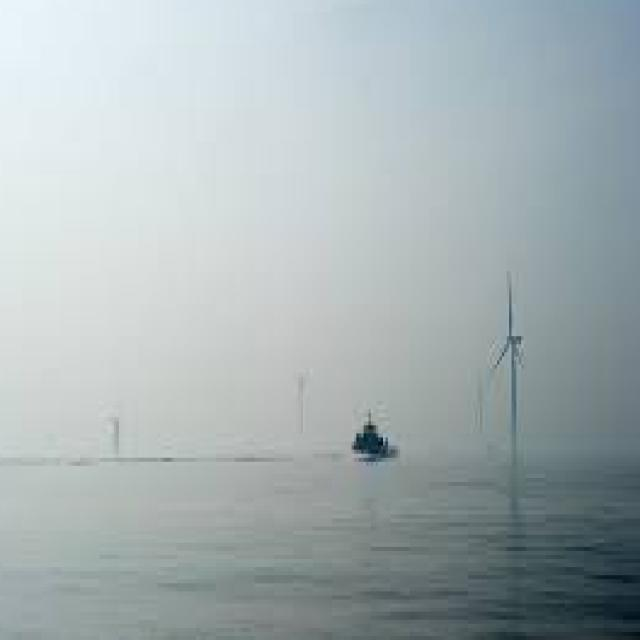fishing boat: (344, 398, 402, 457)
